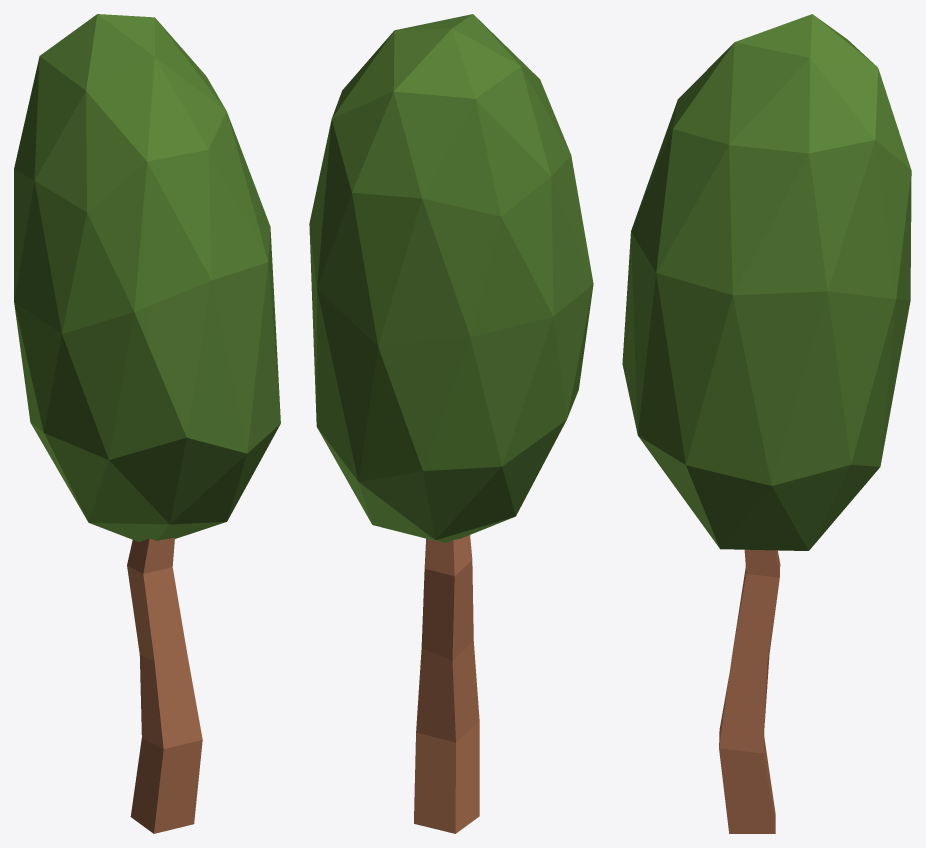
Rendered from tree-4.glb.
3 views of the same model, side by side, from view 1: azimuth 30°, elevation 25°; view 2: azimuth 150°, elevation 25°; view 3: azimuth 270°, elevation 25° (orthographic). The views are drawn at different scales.
Visible parts, largest first — view 1: Tree 4_0; view 2: Tree 4_0; view 3: Tree 4_0.
Part boxes in pixels (x1,y1,x2,y2): Tree 4_0: (14, 14, 280, 833); Tree 4_0: (309, 14, 593, 833); Tree 4_0: (622, 14, 911, 833).
Size of the model in its own units: 11.15 by 37.69 by 12.45.
Materials: 1 (1 with a texture image).
